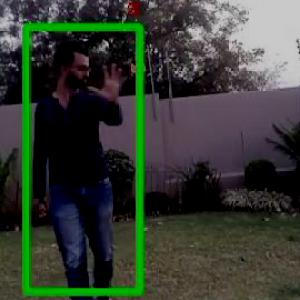follow_hand: (89, 58, 132, 103)
